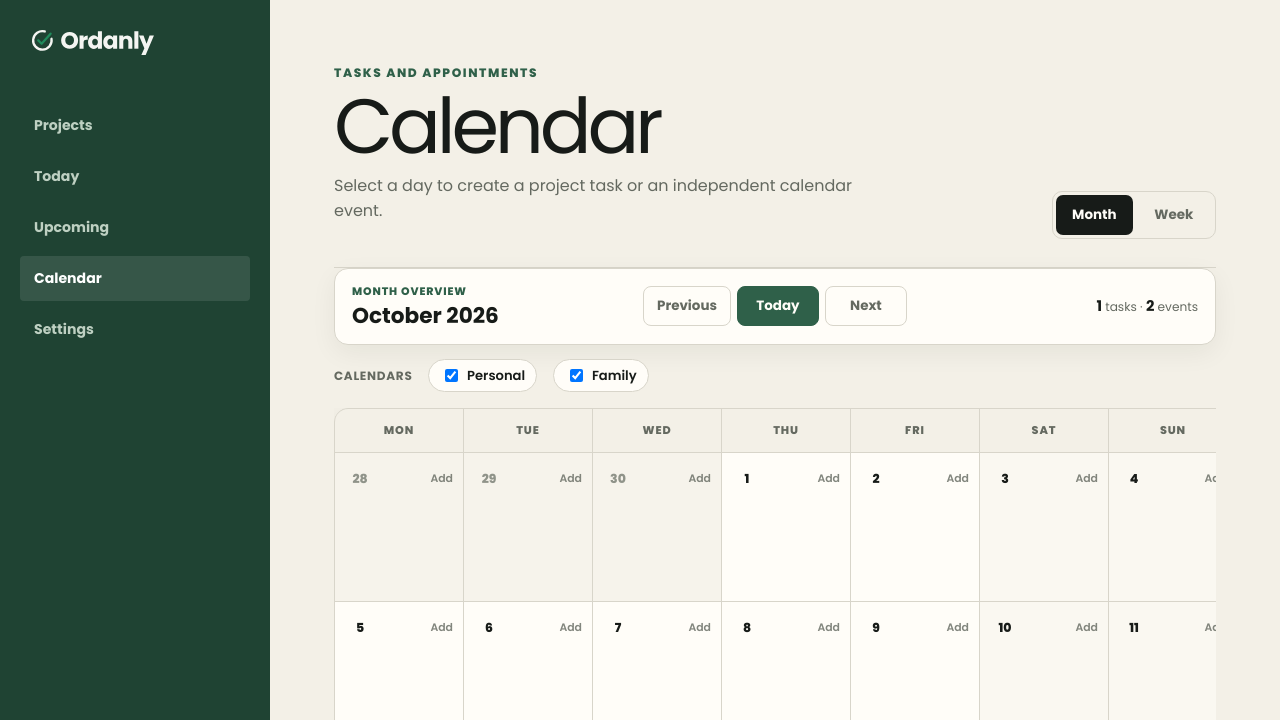
Test: Calendar › creates an event without selecting a project
This screenshot has width=1280, height=720.
Click the button with aria-label "add entry on" at (399, 479), box [345,463,453,495]
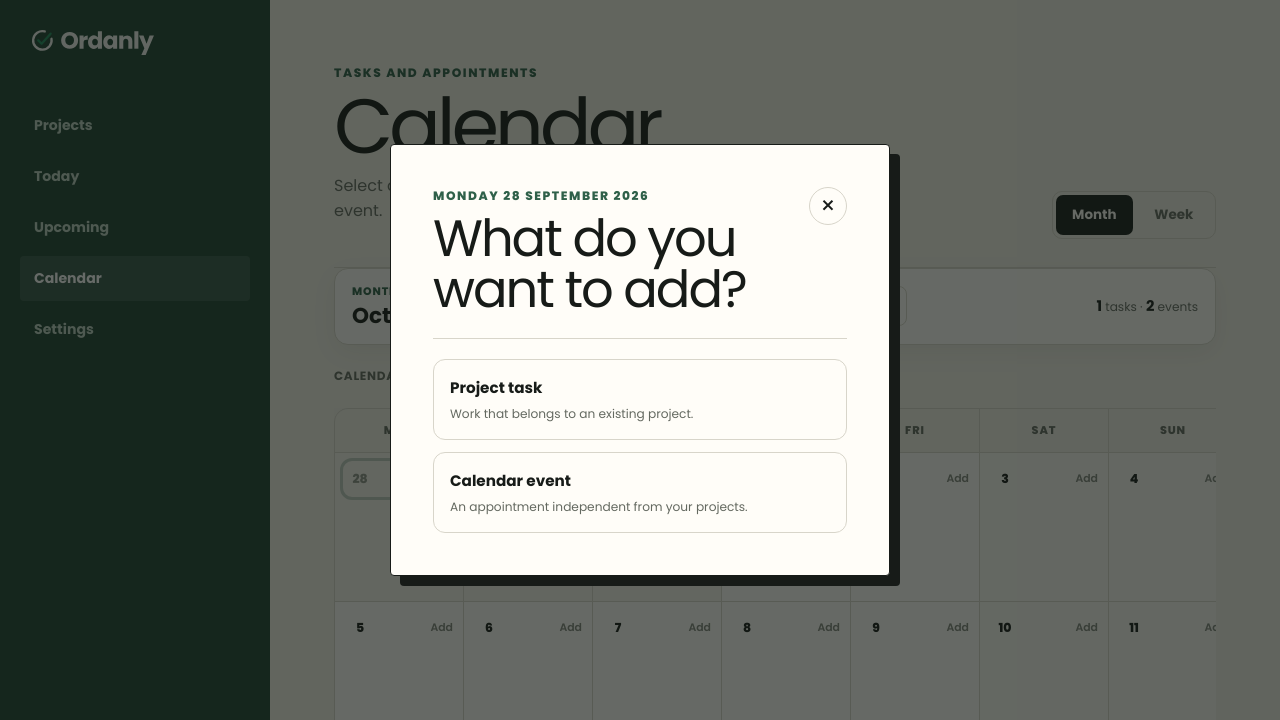
Click the button "Calendar event" at (510, 481), box [433,452,847,533]
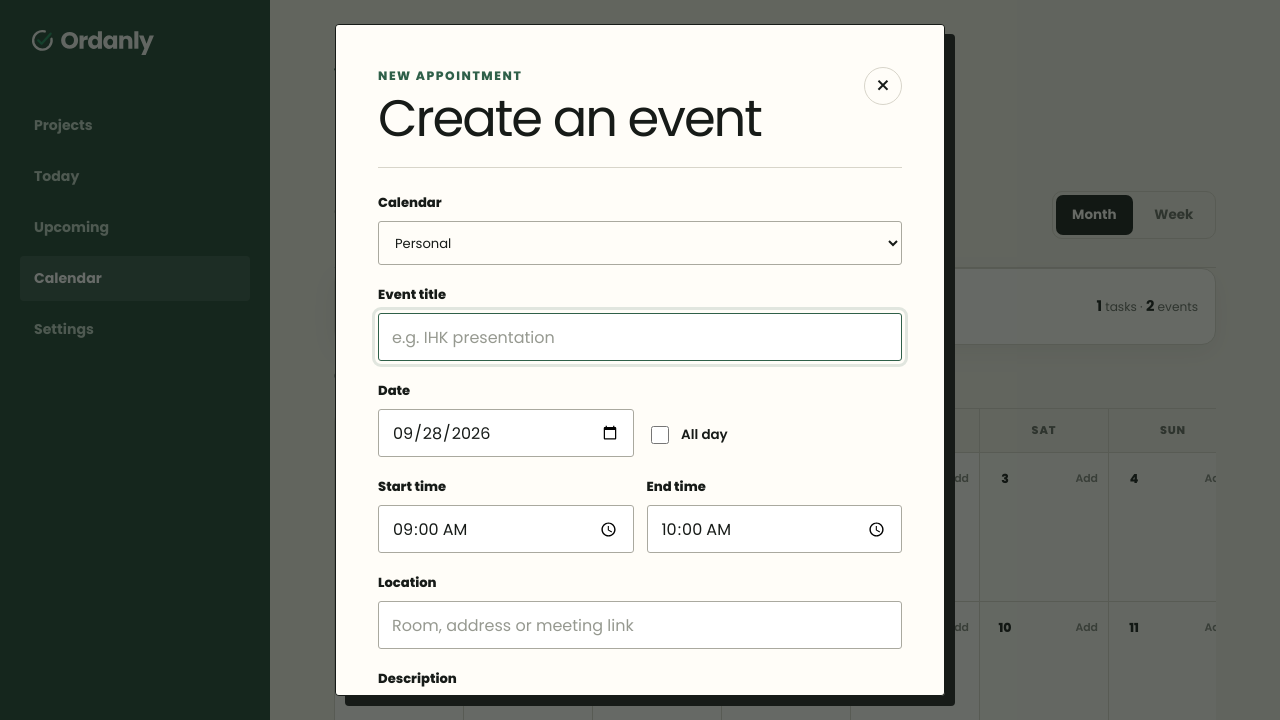
Type "Dentist appointment" into the field labelled "Event title" at (640, 337), box [378,313,902,361]
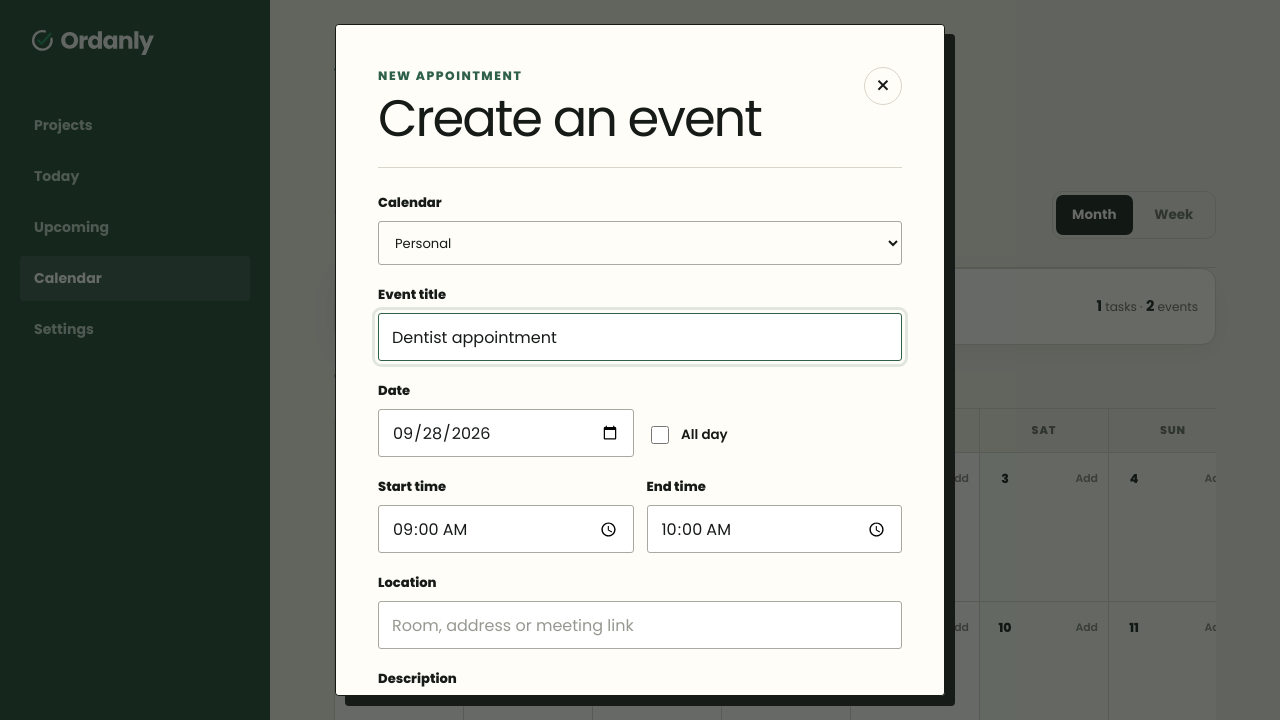
Type "Husum" into the field labelled "Location" at (640, 625), box [378,601,902,649]
(page scrolled)
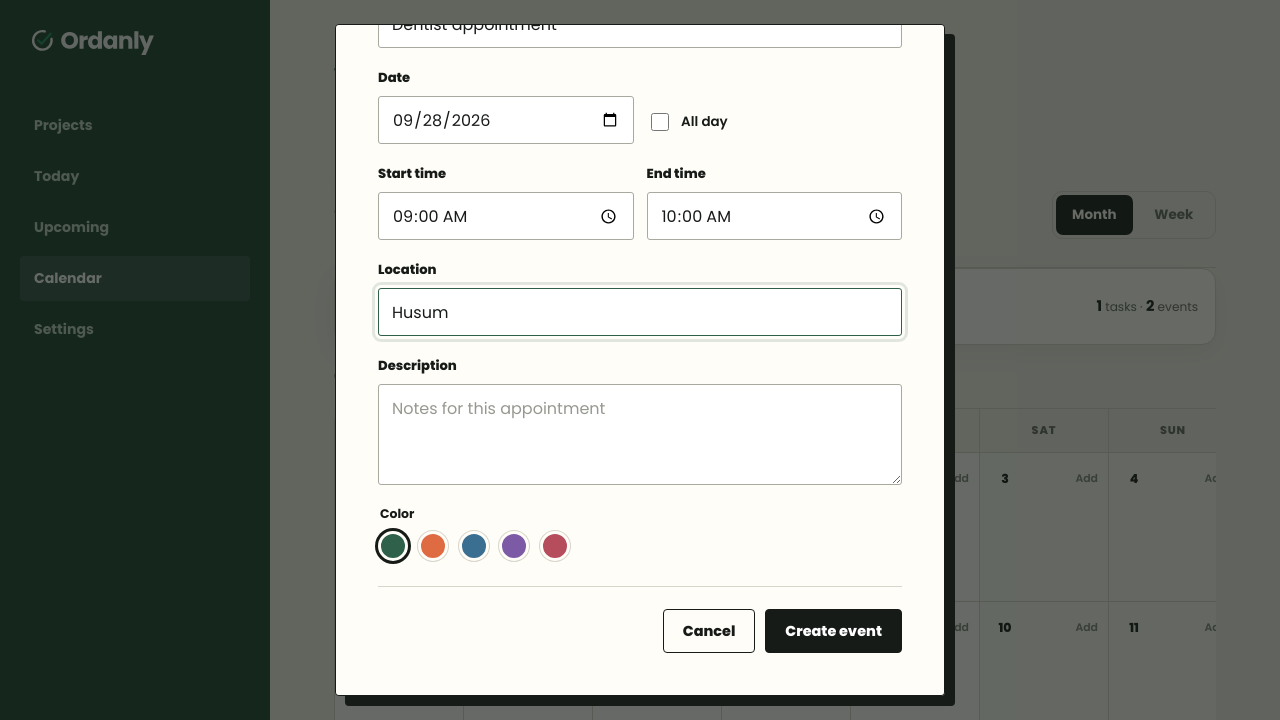
Click the button "Create event" at (834, 631), box [765,609,902,653]
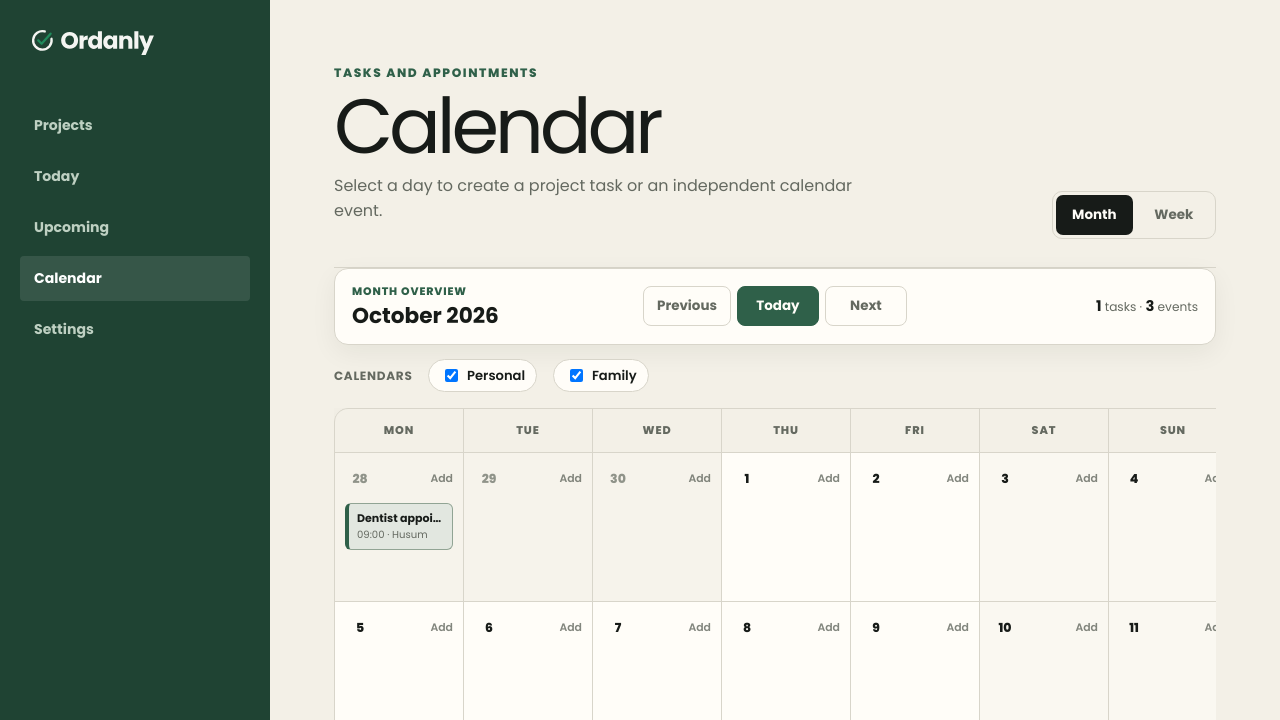
Now the text "Dentist appointment" is shown, box [357,511,444,526]
